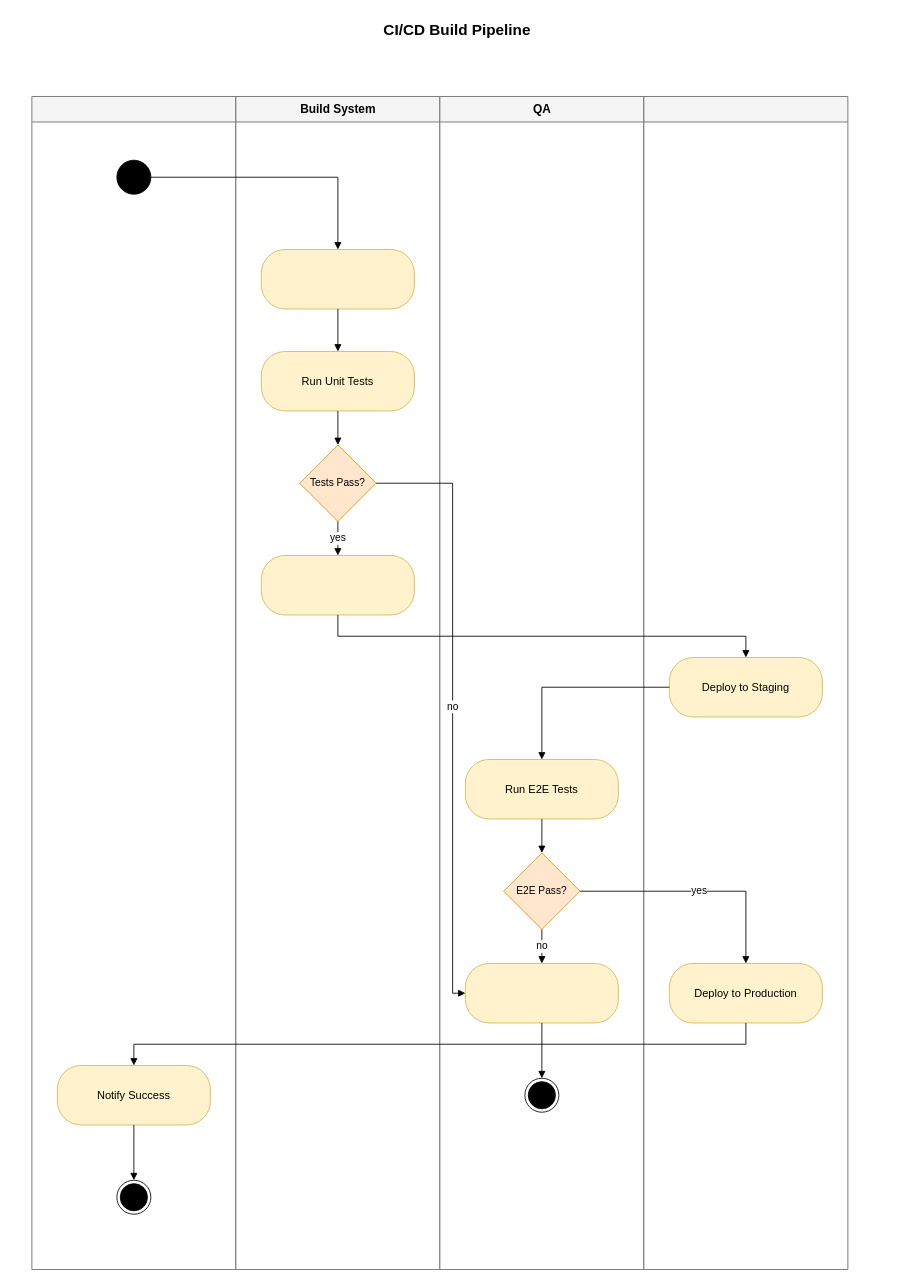
Image size: 913x1284. Some labels were removed from this diagram. The shapes that lost their labels are listed below. From the top down, each one's box as (x1, y1, x2, y2) in pixels, then its label:
(261, 249, 414, 309): Checkout Repository
(261, 555, 414, 615): Build Artifact
(31, 96, 236, 1269): Developer
(643, 96, 848, 1269): DevOps
(465, 963, 618, 1023): Notify Failure
